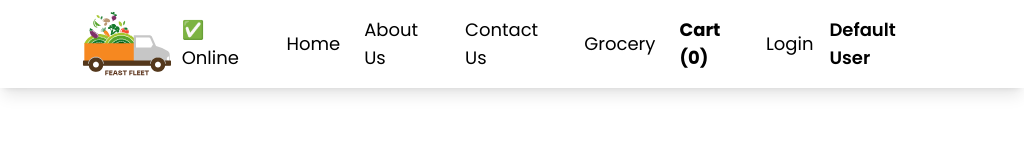
Test: Should change Login Button to Logout Button OnClick
Click the button "Login".
click(790, 44)  # box [766,30,813,58]
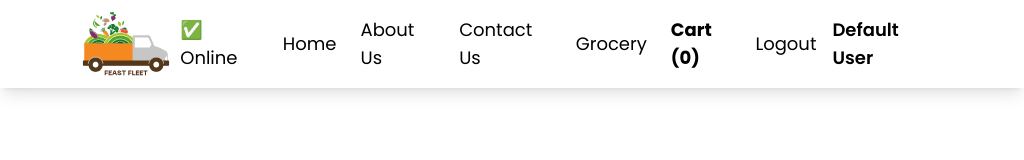
Result: the button "Logout" is shown at [755,30,816,58]
